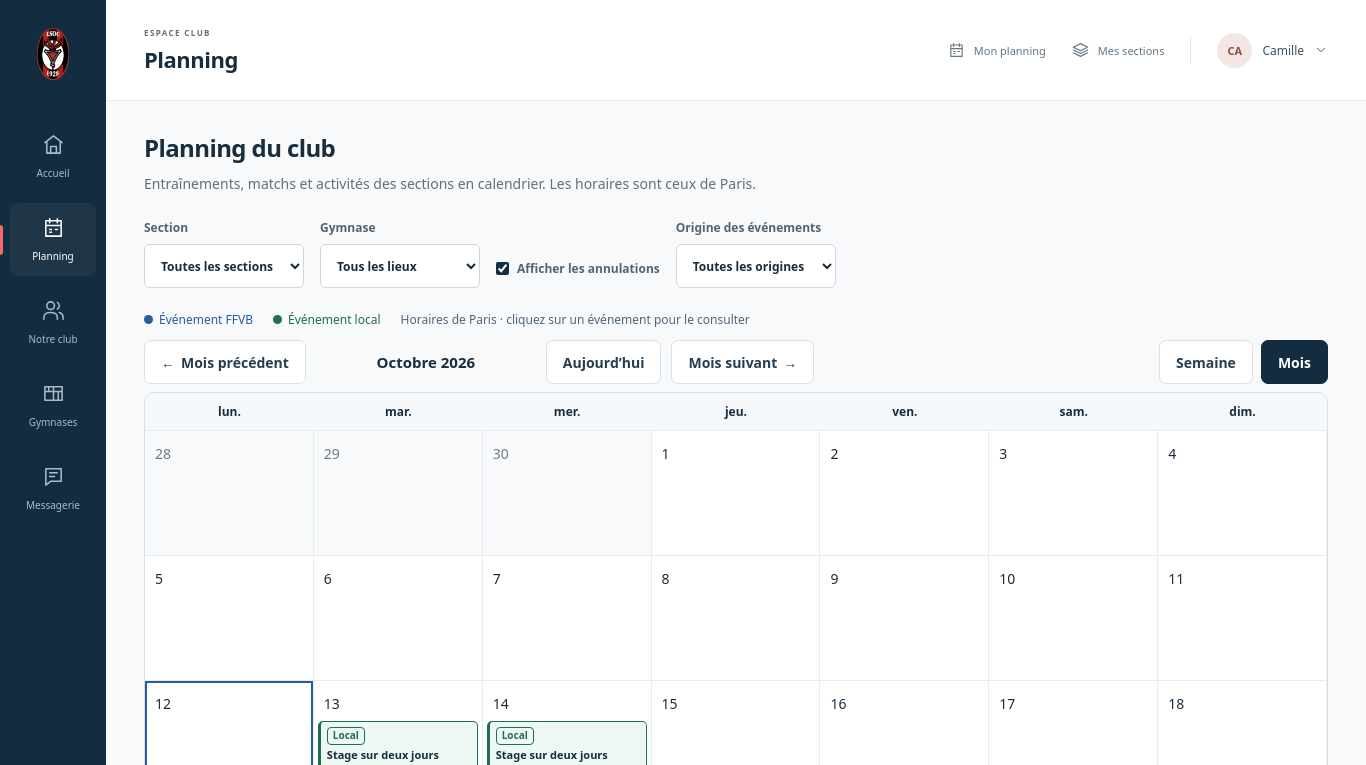
Scenario: affiche une activité sur plusieurs jours dans le détail du jour sélectionné du mois
Click the button named "Mercredi 14 octobre, 1 événement". click: (567, 703)
box: [487, 685, 647, 721]
(page scrolled)
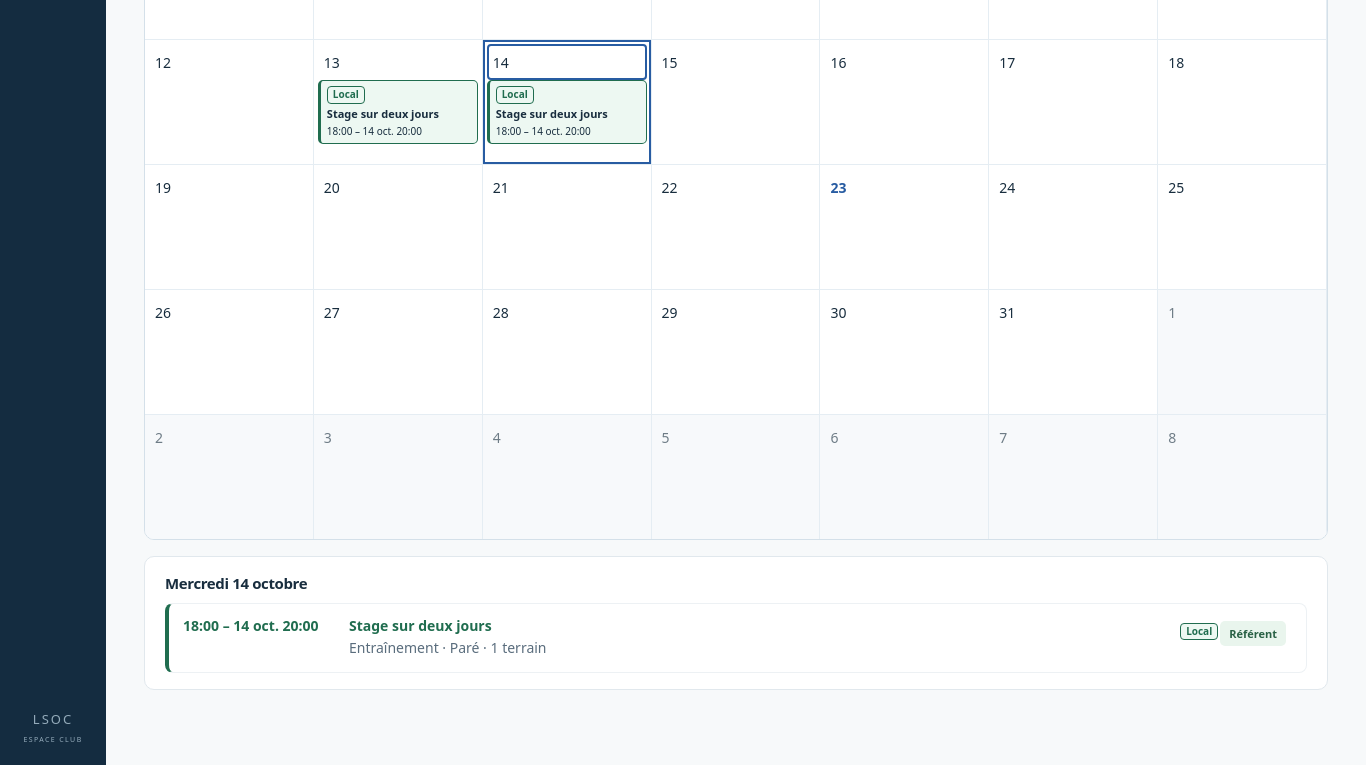
Expected: the link "Stage sur deux jours" is shown, [165, 603, 1307, 673]
